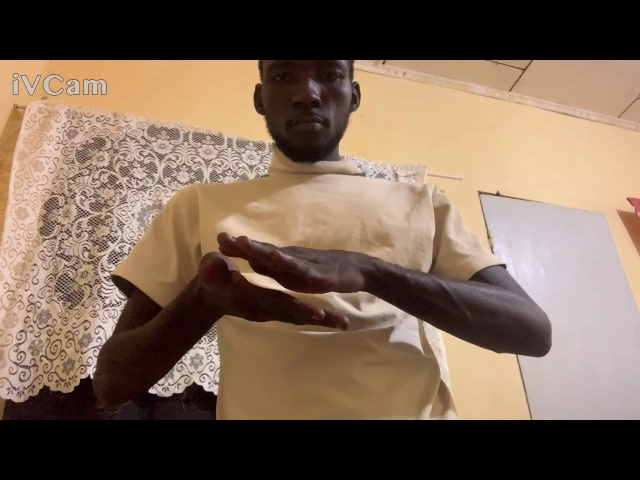pardon: (188, 224, 401, 334)
